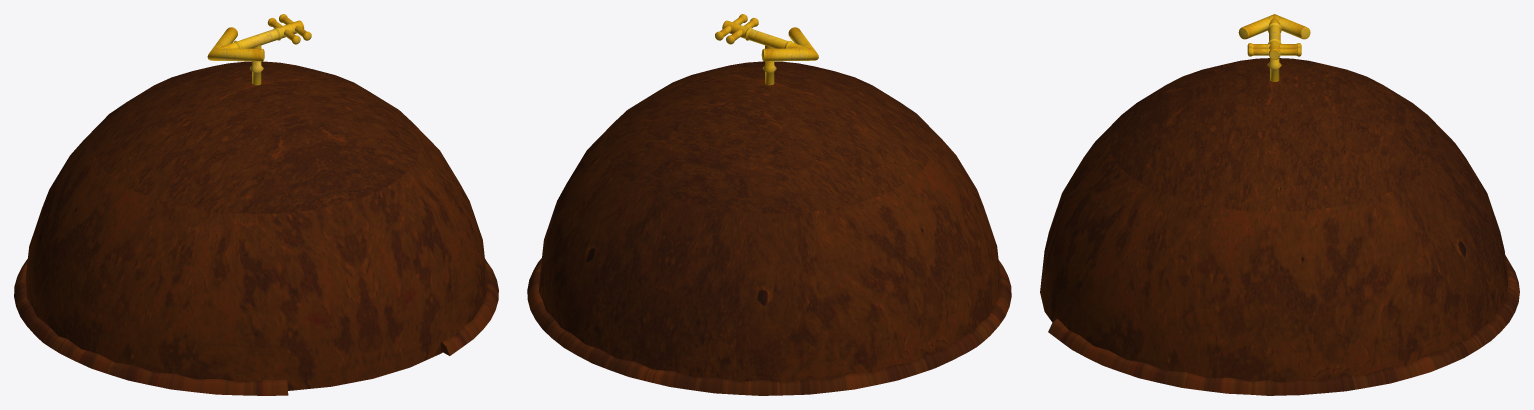
The model's file is CasaPat.obj.
3 views of the same model, side by side, from view 1: azimuth 30°, elevation 25°; view 2: azimuth 150°, elevation 25°; view 3: azimuth 270°, elevation 25° (orthographic).
Visible parts, largest first — view 1: Patrick_s_House, Object001; view 2: Patrick_s_House, Object001; view 3: Patrick_s_House, Object001.
Part boxes in pixels (<box>): Patrick_s_House: <box>14,61,498,395</box>; Object001: <box>207,14,311,85</box>; Patrick_s_House: <box>527,61,1011,395</box>; Object001: <box>715,14,818,85</box>; Patrick_s_House: <box>1040,58,1519,395</box>; Object001: <box>1238,14,1310,81</box>.
Size of the model in its own units: 20.19 by 12.42 by 19.75.
